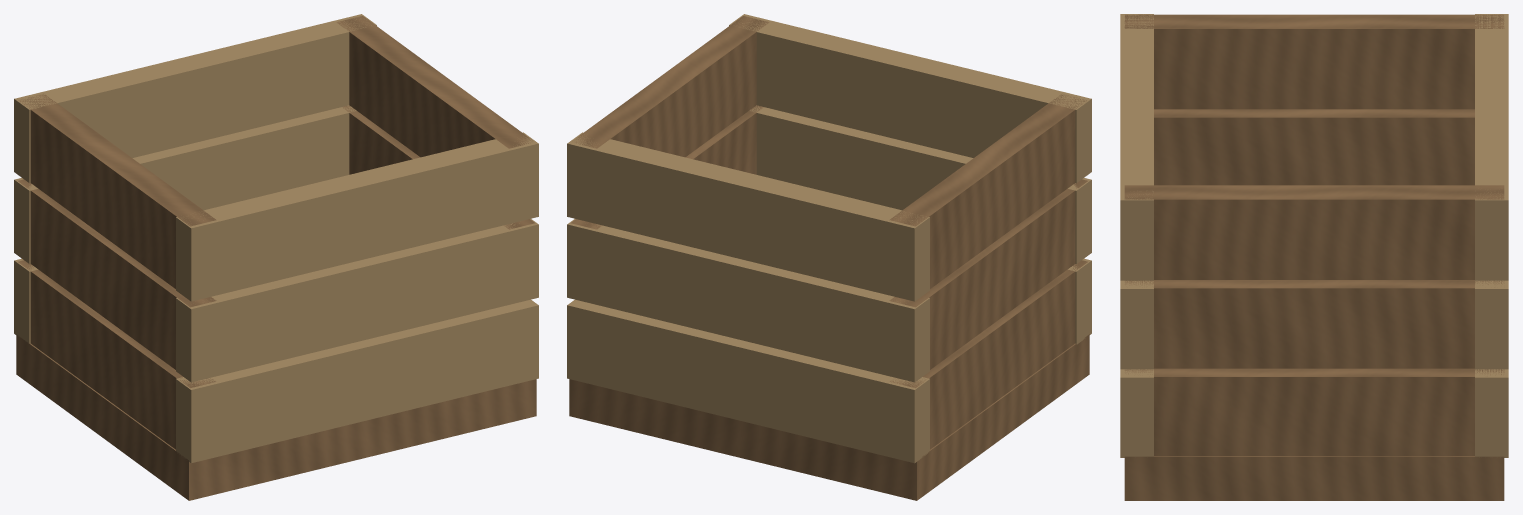
The model's file is crate_open.glb.
3 views of the same model, side by side, from view 1: azimuth 30°, elevation 25°; view 2: azimuth 150°, elevation 25°; view 3: azimuth 270°, elevation 25° (orthographic). The views are drawn at different scales.
Visible parts, largest first — view 1: crate_open; view 2: crate_open; view 3: crate_open.
Part boxes in pixels (box(x1,y1,x2,y2)): crate_open: box(14, 14, 538, 500); crate_open: box(567, 14, 1091, 500); crate_open: box(1120, 14, 1508, 500).
Size of the model in its own units: 0.72 by 0.5425 by 0.635.
2 materials, 1 textured.
